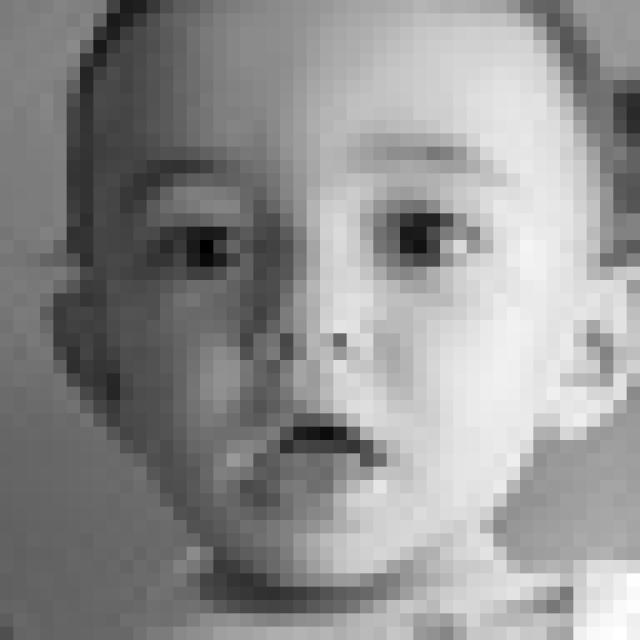surprise: (116, 136, 523, 511)
